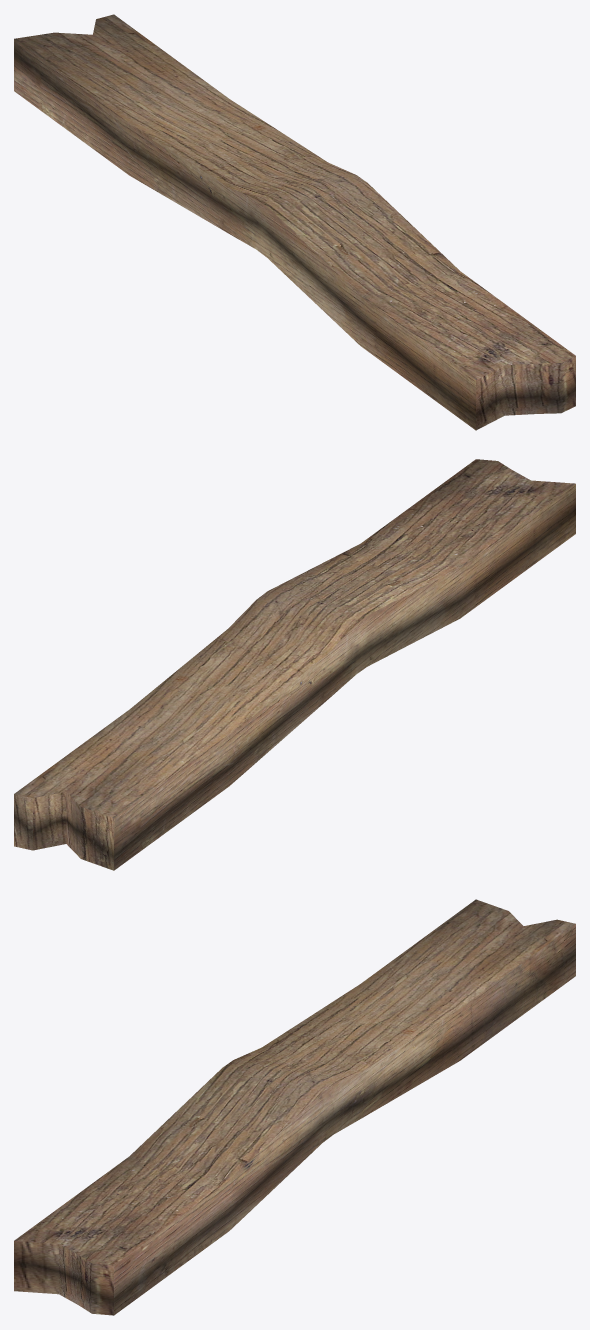
The model's file is Wood.fbx.
3 renders of one model, top to bottom at view 1: azimuth 30°, elevation 25°; view 2: azimuth 150°, elevation 25°; view 3: azimuth 330°, elevation 25°, orthographic.
Parts seen in each view (by area): view 1: wood; view 2: wood; view 3: wood.
Part boxes in pixels (bbox=[...]): wood: bbox=[14, 14, 575, 430]; wood: bbox=[14, 459, 575, 870]; wood: bbox=[14, 899, 575, 1315].
Size of the model in its own units: 100 by 67.72 by 806.
